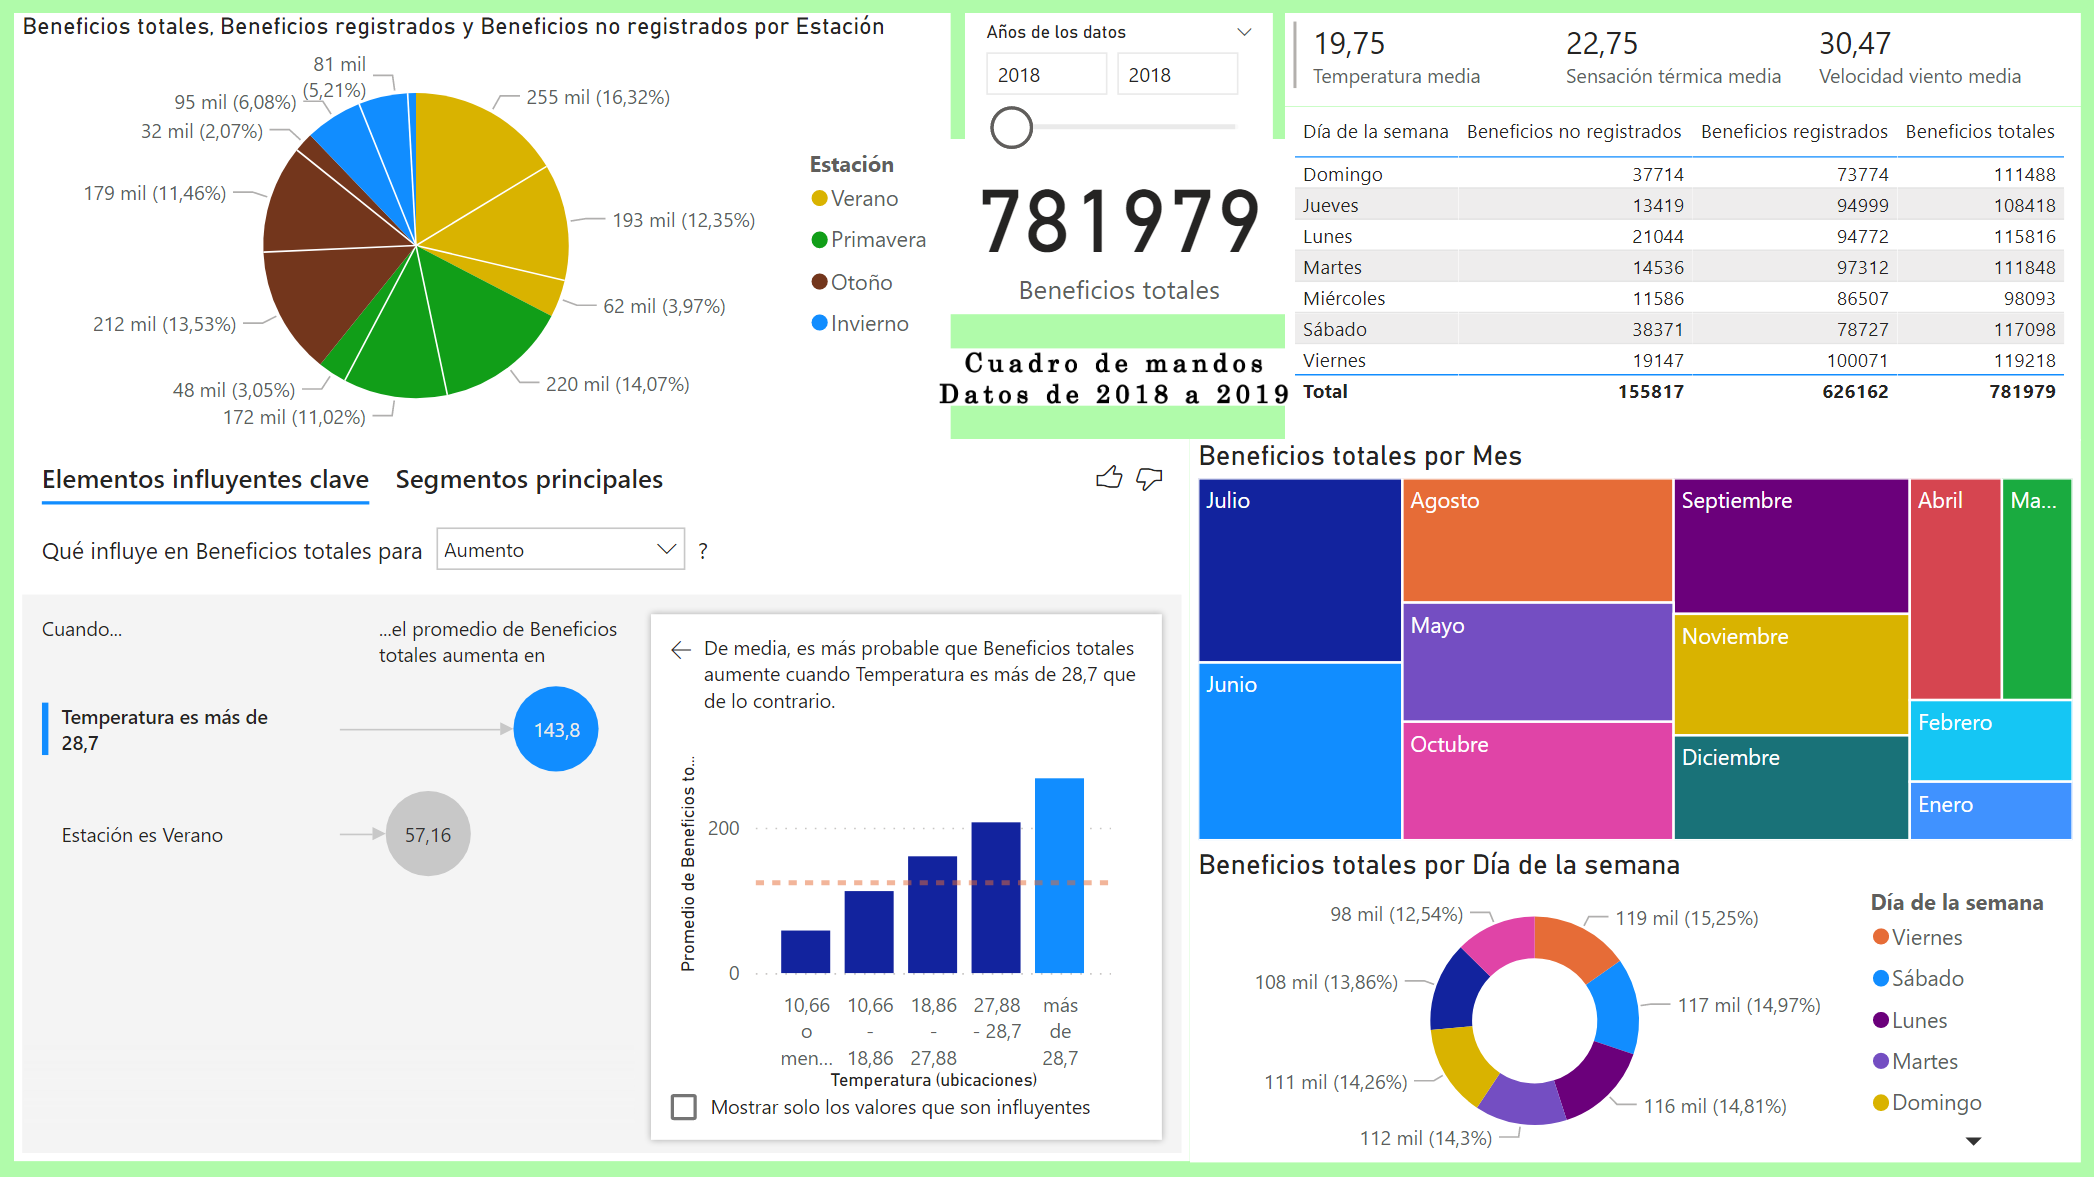

This screenshot's page, from the dashboard's own definition file:
{"tool":"powerbi","page":{"name":"Página 1","canvas":[1280,720],"ordinal":0},"visuals":[{"type":"pieChart","fields":{"Category":["rentadebicis_texto.Estación"],"Y":["Sum(rentadebicis_texto.Rentas totales)","Sum(rentadebicis_texto.Rentas registrados)","Sum(rentadebicis_texto.Rentas no registrados)"]},"box":[9.8,9.2,571.8,268.1],"z":0},{"type":"card","fields":{"Values":["Sum(rentadebicis_texto.Rentas totales)"]},"box":[575.5,86.1,218.9,107],"z":1000},{"type":"multiRowCard","fields":{"Values":["Avg(rentadebicis_texto.Temperatura)","Avg(rentadebicis_texto.Sensación térmica)","Avg(rentadebicis_texto.Velocidad viento)"]},"box":[785.8,9.2,485.7,57.2],"z":2000},{"type":"tableEx","fields":{"Values":["rentadebicis_texto.Día de la semana","Sum(rentadebicis_texto.Rentas no registrados)","Sum(rentadebicis_texto.Rentas registrados)","Sum(rentadebicis_texto.Rentas totales)"]},"box":[785.8,66.4,485.7,204.1],"z":3000},{"type":"treemap","fields":{"Values":["Sum(rentadebicis_texto.Rentas totales)"],"Group":["rentadebicis_texto.Mes"]},"box":[728,269.3,543.5,249.6],"z":4000},{"type":"keyDriversVisual","fields":{"Target":["rentadebicis_texto.Rentas totales"],"ExplainBy":["Sum(rentadebicis_texto.Temperatura)","rentadebicis_texto.Estación"]},"box":[9.8,269.3,718.2,441.5],"z":5000},{"type":"slicer","fields":{"Values":["rentadebicis_texto.Año"]},"box":[590.5,9.2,188.1,106.9],"z":6000},{"type":"image","box":[567.5,193.1,226.9,77.5],"z":7000},{"type":"donutChart","fields":{"Category":["rentadebicis_texto.Día de la semana"],"Y":["Sum(rentadebicis_texto.Rentas totales)"]},"box":[728,518.9,543.5,191.8],"z":8000}]}

Visuals, with their boxes in screenshot pixels (x1, y1, x2, y2), scaled from the page's 1280x720 canvas onto the 2094x1177 screenshot:
pieChart - rentadebicis_texto.Estación x Sum(rentadebicis_texto.Rentas totales): select_region(16, 15, 951, 453)
card - Sum(rentadebicis_texto.Rentas totales): select_region(941, 141, 1300, 316)
multiRowCard - Avg(rentadebicis_texto.Temperatura) x Avg(rentadebicis_texto.Sensación térmica): select_region(1286, 15, 2080, 109)
tableEx - rentadebicis_texto.Día de la semana x Sum(rentadebicis_texto.Rentas no registrados): select_region(1286, 109, 2080, 442)
treemap - Sum(rentadebicis_texto.Rentas totales) x rentadebicis_texto.Mes: select_region(1191, 440, 2080, 848)
keyDriversVisual - rentadebicis_texto.Rentas totales x Sum(rentadebicis_texto.Temperatura): select_region(16, 440, 1191, 1162)
slicer - rentadebicis_texto.Año: select_region(966, 15, 1274, 190)
image: select_region(928, 316, 1300, 442)
donutChart - rentadebicis_texto.Día de la semana x Sum(rentadebicis_texto.Rentas totales): select_region(1191, 848, 2080, 1162)
